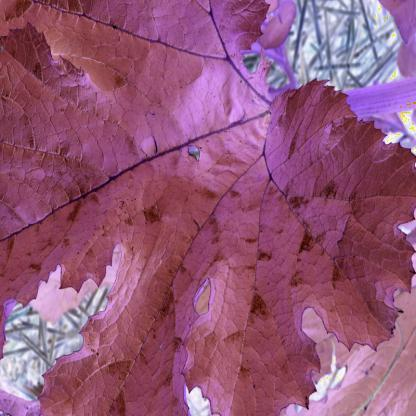Squash Powdery mildew leaf: (0, 1, 416, 410)
